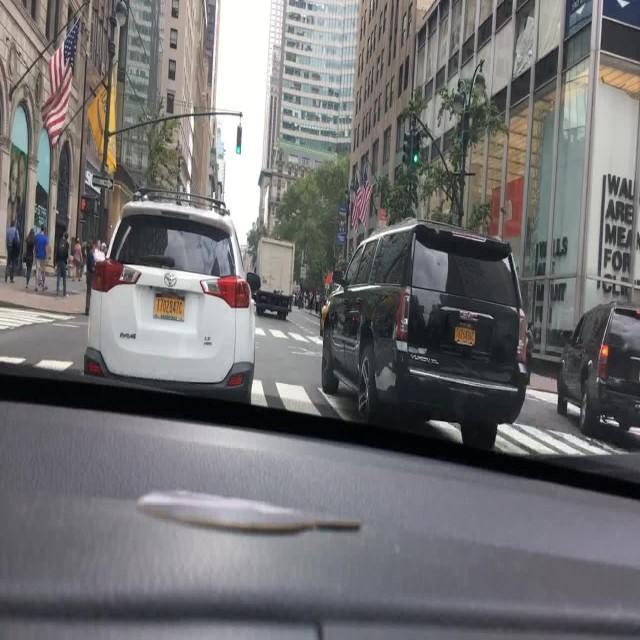normal: (316, 218, 532, 455), (82, 193, 253, 392)
